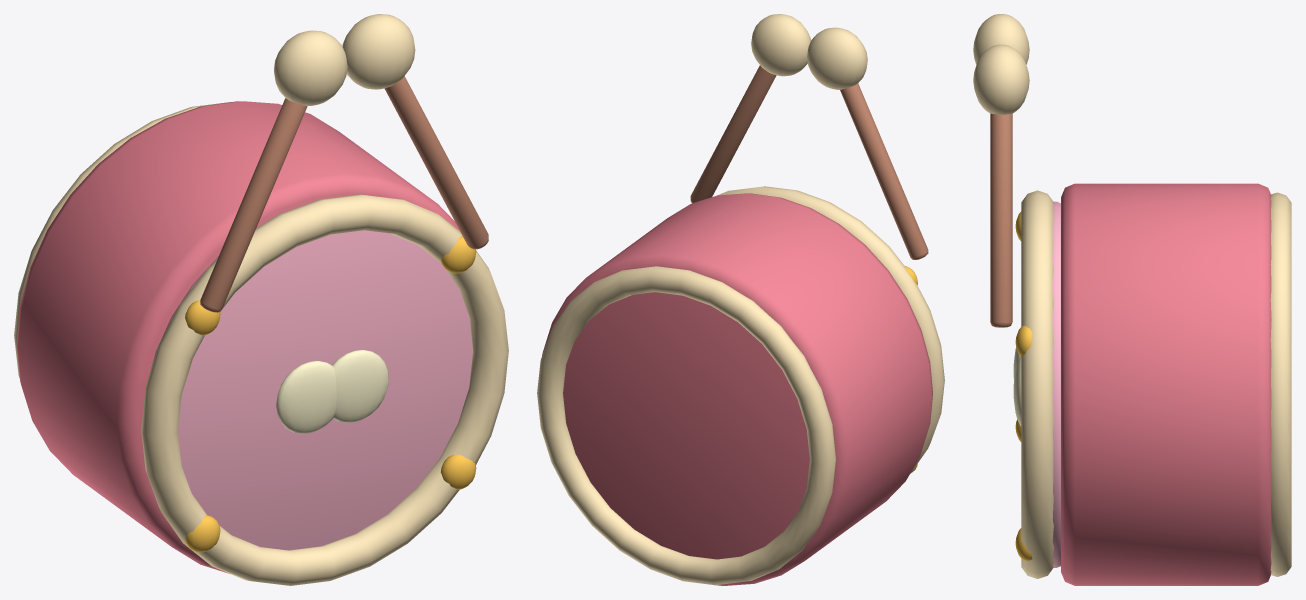
The model's file is drum.glb.
The picture shows the model from 3 angles, left to right: view 1: azimuth 30°, elevation 25°; view 2: azimuth 150°, elevation 25°; view 3: azimuth 270°, elevation 25°; orthographic projection. The views are drawn at different scales.
Parts seen in each view (by area): view 1: CMP_Music_Drum_Front, CMP_Music_Drum_Shell, CMP_Music_Drum_Rim_Front, CMP_Music_Drum_Mallet_L, CMP_Music_Drum_Mallet_R, CMP_Music_Drum_MalletHead_L, CMP_Music_Drum_MalletHead_R, CMP_Music_Drum_Badge_L, CMP_Music_Drum_Badge_R, CMP_Music_Drum_Rim_Back, CMP_Music_Drum_Peg.003, CMP_Music_Drum_Peg.002 (+2 smaller); view 2: CMP_Music_Drum_Shell, CMP_Music_Drum_Rim_Back, CMP_Music_Drum_Rim_Front, CMP_Music_Drum_Mallet_L, CMP_Music_Drum_MalletHead_L, CMP_Music_Drum_Mallet_R, CMP_Music_Drum_MalletHead_R; view 3: CMP_Music_Drum_Shell, CMP_Music_Drum_Rim_Front, CMP_Music_Drum_Rim_Back, CMP_Music_Drum_Mallet_R, CMP_Music_Drum_MalletHead_R, CMP_Music_Drum_Front, CMP_Music_Drum_MalletHead_L, CMP_Music_Drum_Badge_R.
Boxes of the visible parts, left/top/right/bottom form: CMP_Music_Drum_Front: left=151, top=230, right=472, bottom=550; CMP_Music_Drum_Shell: left=16, top=101, right=459, bottom=573; CMP_Music_Drum_Rim_Front: left=141, top=194, right=508, bottom=585; CMP_Music_Drum_Mallet_L: left=200, top=98, right=307, bottom=312; CMP_Music_Drum_Mallet_R: left=384, top=76, right=488, bottom=249; CMP_Music_Drum_MalletHead_L: left=274, top=30, right=347, bottom=105; CMP_Music_Drum_MalletHead_R: left=342, top=14, right=415, bottom=89; CMP_Music_Drum_Badge_L: left=276, top=360, right=336, bottom=433; CMP_Music_Drum_Badge_R: left=332, top=349, right=388, bottom=422; CMP_Music_Drum_Rim_Back: left=14, top=102, right=230, bottom=378; CMP_Music_Drum_Peg.003: left=440, top=454, right=476, bottom=489; CMP_Music_Drum_Peg.002: left=185, top=515, right=220, bottom=552; CMP_Music_Drum_Shell: left=542, top=193, right=932, bottom=585; CMP_Music_Drum_Rim_Back: left=537, top=266, right=835, bottom=585; CMP_Music_Drum_Rim_Front: left=718, top=186, right=944, bottom=473; CMP_Music_Drum_Mallet_L: left=840, top=83, right=928, bottom=259; CMP_Music_Drum_MalletHead_L: left=807, top=27, right=867, bottom=89; CMP_Music_Drum_Mallet_R: left=690, top=65, right=776, bottom=203; CMP_Music_Drum_MalletHead_R: left=751, top=14, right=811, bottom=76; CMP_Music_Drum_Shell: left=1061, top=183, right=1271, bottom=585; CMP_Music_Drum_Rim_Front: left=1021, top=190, right=1053, bottom=578; CMP_Music_Drum_Rim_Back: left=1270, top=192, right=1291, bottom=576; CMP_Music_Drum_Mallet_R: left=990, top=113, right=1012, bottom=327; CMP_Music_Drum_MalletHead_R: left=973, top=44, right=1029, bottom=114; CMP_Music_Drum_Front: left=1052, top=201, right=1060, bottom=567; CMP_Music_Drum_MalletHead_L: left=973, top=14, right=1029, bottom=64; CMP_Music_Drum_Badge_R: left=1013, top=357, right=1021, bottom=425.
Bounding box in the file's own units: 2 × 2.93 × 1.58.
